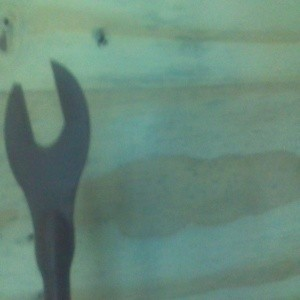spanner: (2, 58, 92, 300)
